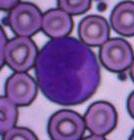M: (34, 36, 100, 106)
